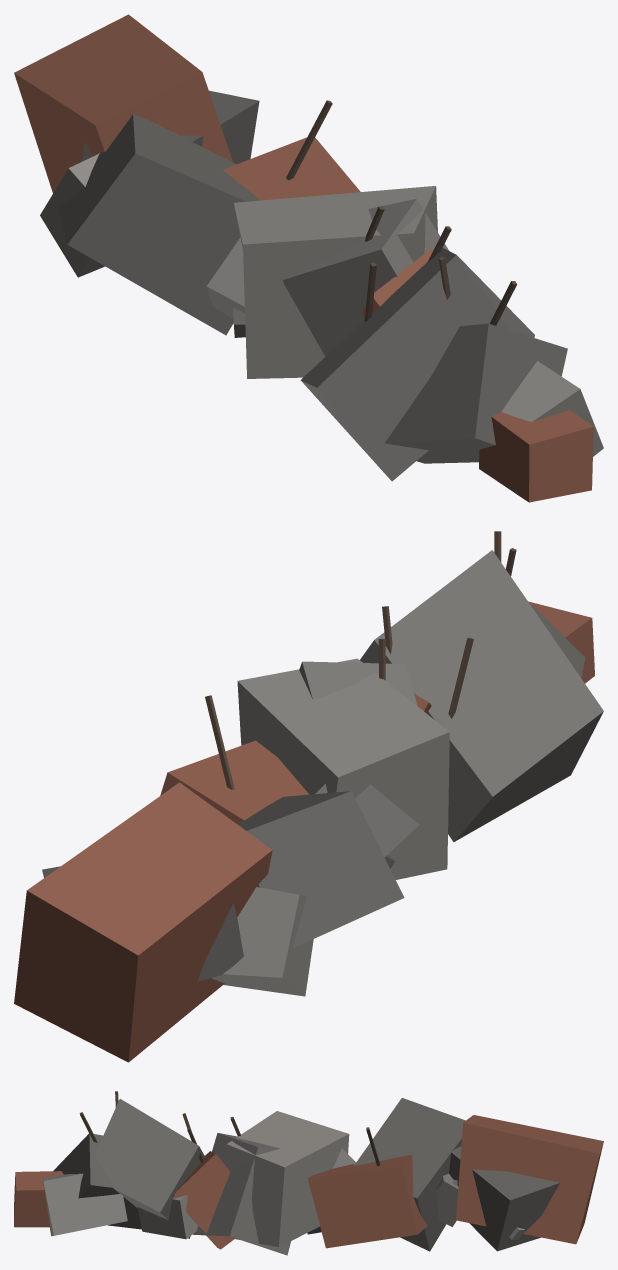
Rendered from rubble_pile.glb.
The picture shows the model from 3 angles, top to bottom: view 1: azimuth 30°, elevation 25°; view 2: azimuth 150°, elevation 25°; view 3: azimuth 270°, elevation 25°; orthographic projection. The views are drawn at different scales.
Parts seen in each view (by area): view 1: rubble_pile; view 2: rubble_pile; view 3: rubble_pile.
Boxes of the visible parts, x1,y1,x2,y2 form: rubble_pile: (14,14,603,502); rubble_pile: (14,531,603,1062); rubble_pile: (14,1091,603,1255).
Size of the model in its own units: 2.3 by 1.9 by 6.88.
